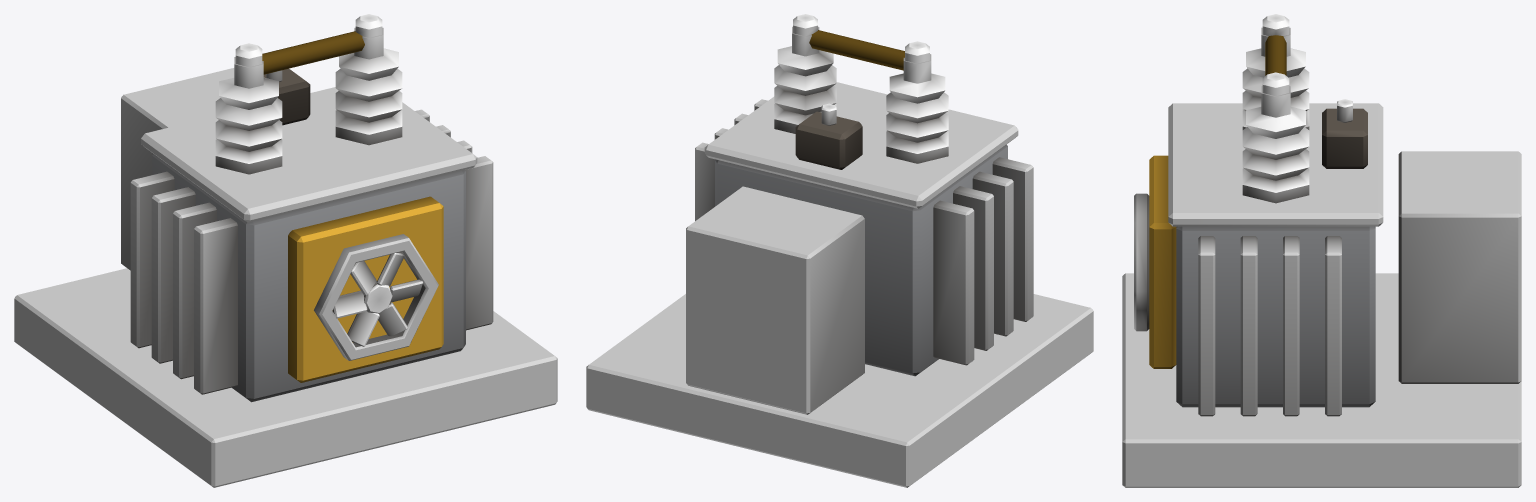
The model's file is R4X_Battery_LOD1.fbx.
3 views of the same model, side by side, from view 1: azimuth 30°, elevation 25°; view 2: azimuth 150°, elevation 25°; view 3: azimuth 270°, elevation 25° (orthographic). The views are drawn at different scales.
Parts seen in each view (by area): view 1: R4X_Battery_LOD1; view 2: R4X_Battery_LOD1; view 3: R4X_Battery_LOD1.
Part boxes in pixels (x1,y1,x2,y2): R4X_Battery_LOD1: [14, 14, 557, 487]; R4X_Battery_LOD1: [586, 14, 1093, 487]; R4X_Battery_LOD1: [1122, 14, 1521, 487].
Size of the model in its own units: 0.52 by 0.514 by 0.52.
